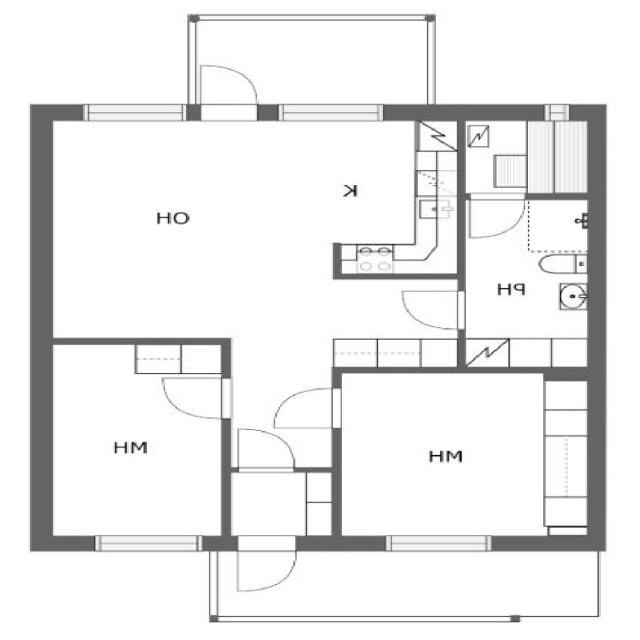door: (233, 534, 296, 598), (196, 61, 258, 122), (150, 372, 228, 420), (465, 190, 533, 245), (391, 285, 462, 334), (236, 422, 294, 480), (266, 384, 338, 430)
window: (277, 97, 386, 125), (84, 96, 186, 122), (384, 531, 489, 555), (92, 533, 200, 552)
zone: (36, 104, 461, 340), (336, 365, 596, 551), (35, 342, 223, 546), (465, 194, 600, 338), (461, 117, 600, 201)
